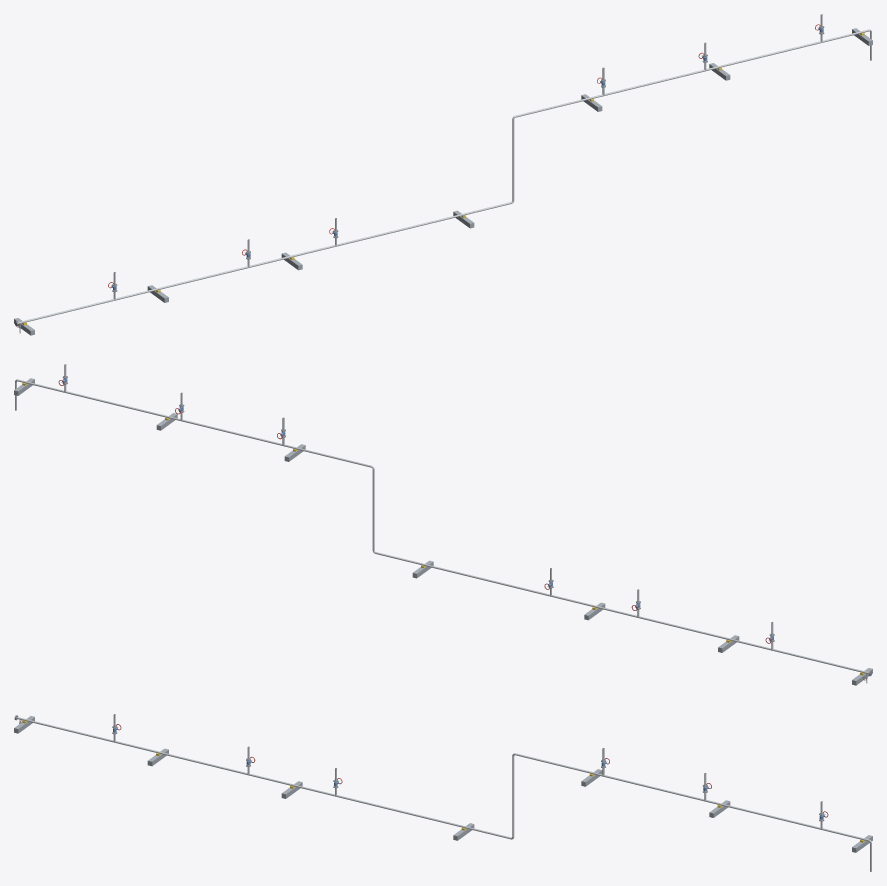
Rendered from N-00011-view.glb.
3 views of the same model, one above another, from view 1: azimuth 30°, elevation 25°; view 2: azimuth 150°, elevation 25°; view 3: azimuth 330°, elevation 25° (orthographic).
Visible parts, largest first — view 1: pipe, steel; view 2: pipe, steel; view 3: pipe, steel.
Part boxes in pixels (box(x1,y1,x2,y2)): pipe: box(18, 14, 871, 332); steel: box(14, 27, 872, 335); pipe: box(15, 364, 868, 682); steel: box(14, 378, 872, 685); pipe: box(16, 714, 871, 871); steel: box(14, 716, 872, 852).
Bounding box in the file's own units: 29.43 × 4.04 × 1.
